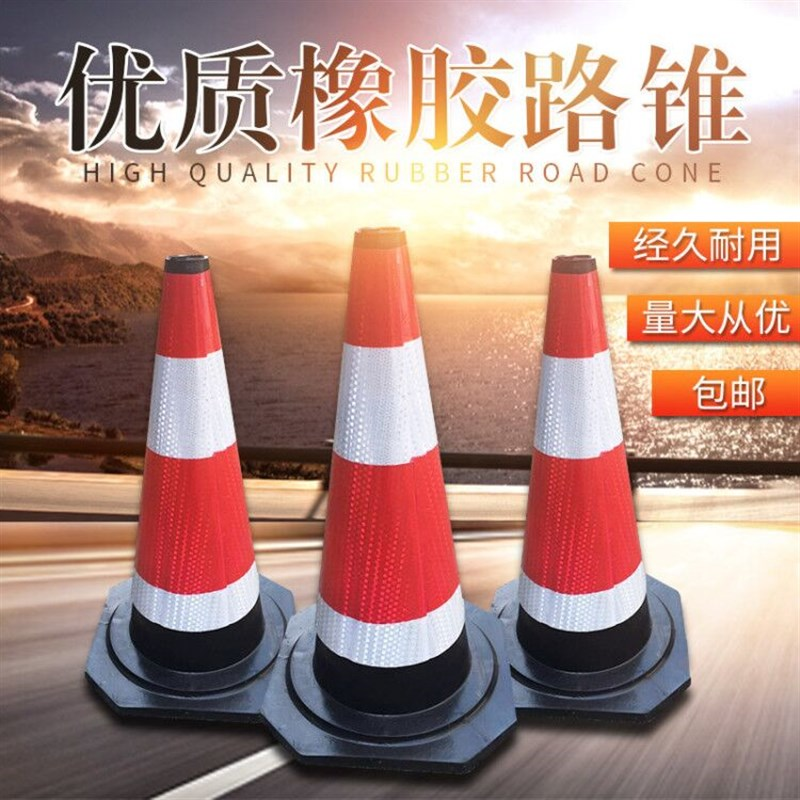traffic_cone: (228, 218, 527, 778), (459, 250, 701, 741), (78, 231, 303, 732)
